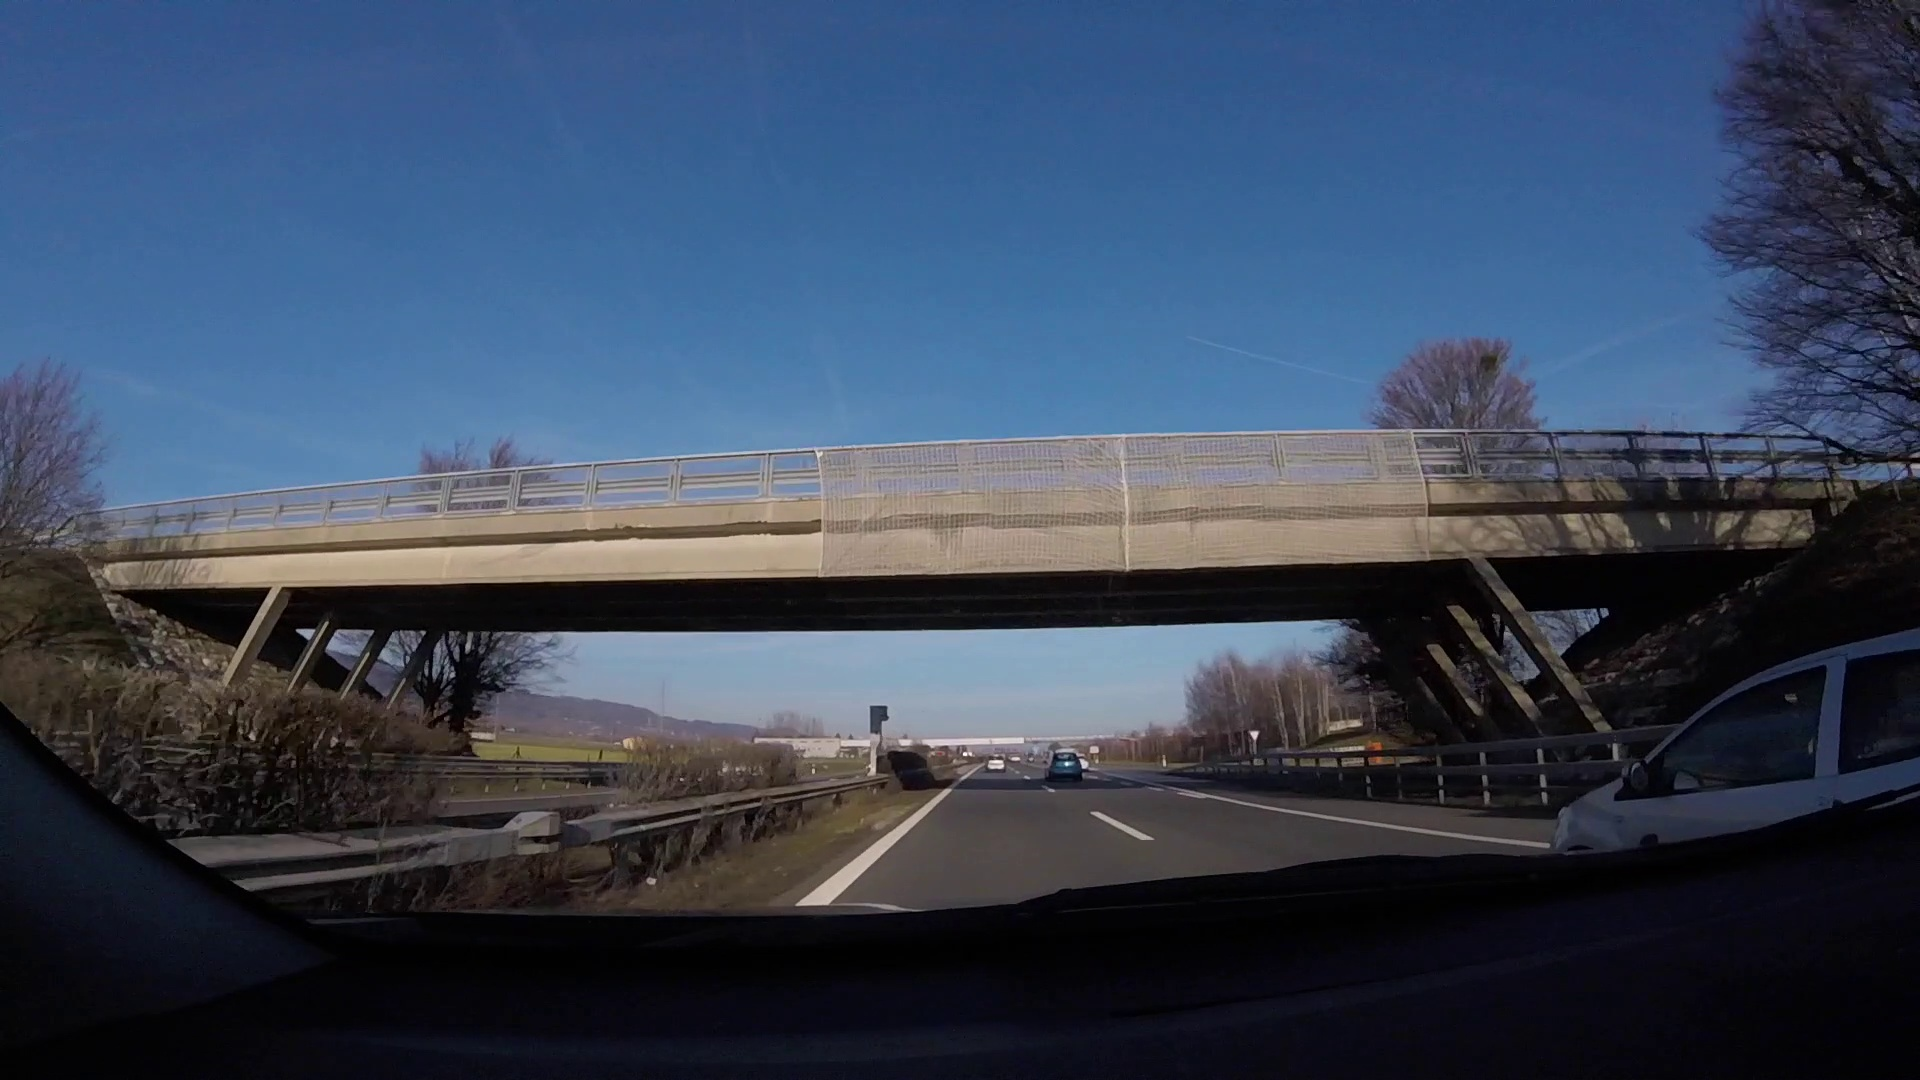radar: (866, 704, 891, 779)
